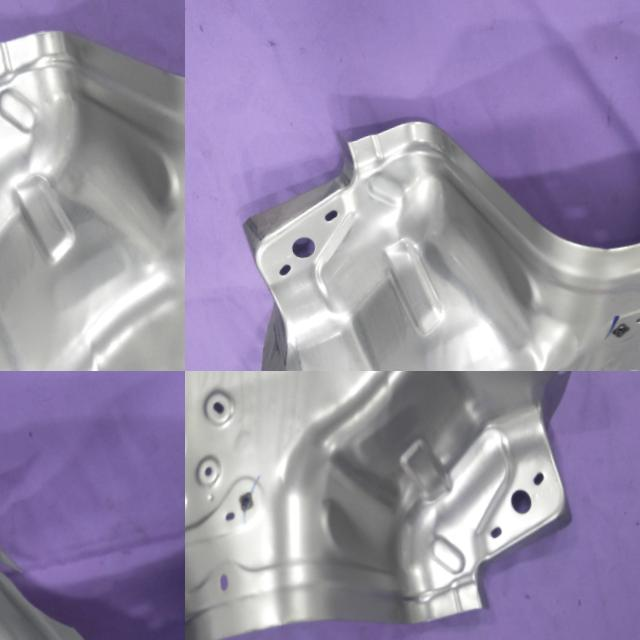Defect: (0, 552, 74, 632)
Healthy: (197, 64, 640, 371), (185, 371, 640, 640), (0, 0, 185, 371)
